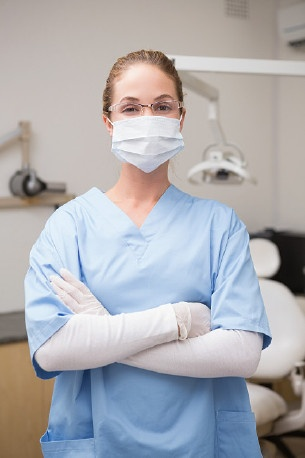Mask: (108, 92, 183, 168)
